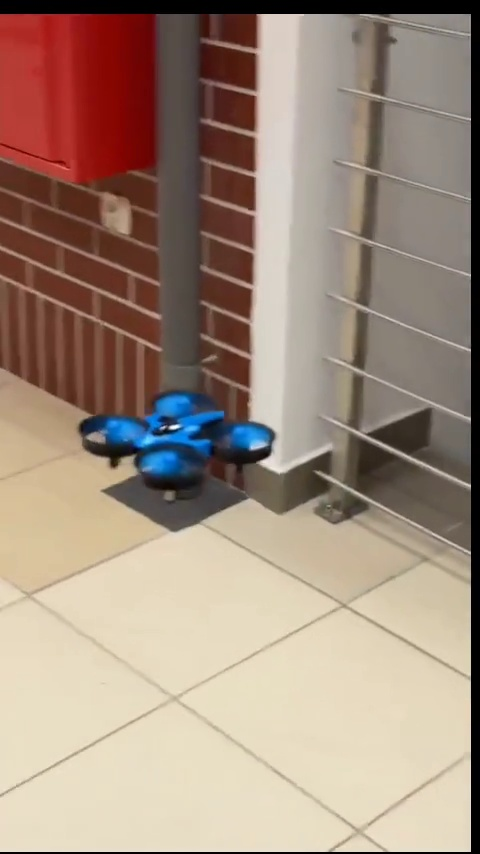drone: (81, 394, 275, 504)
